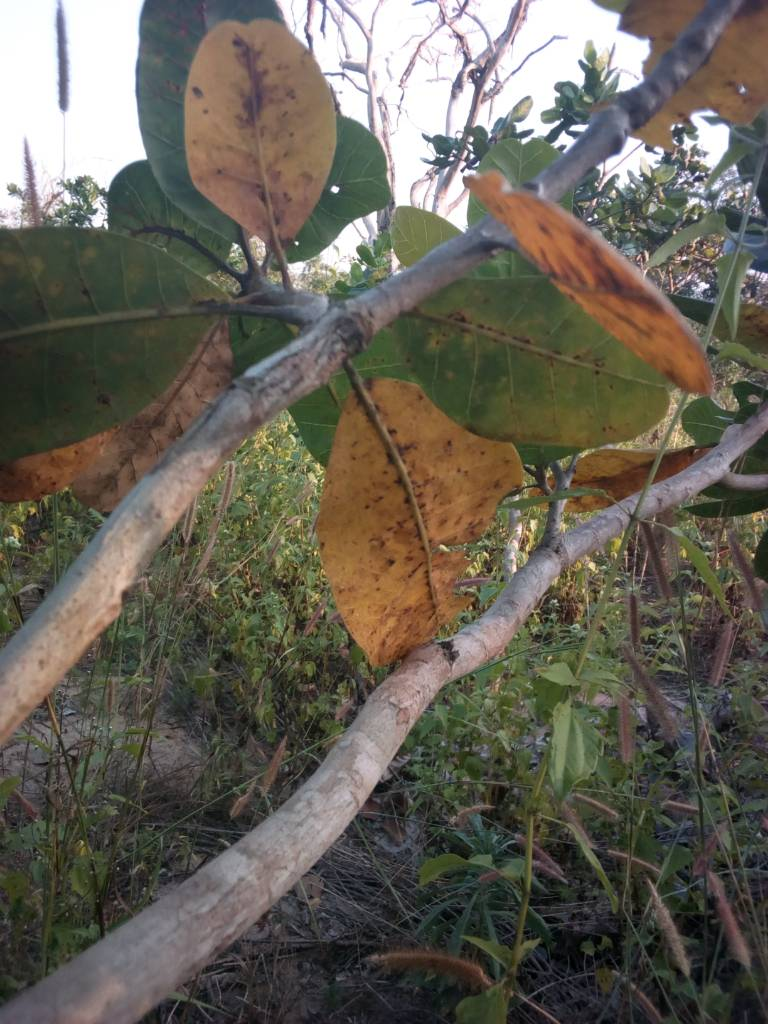Anthracnose: (316, 407, 529, 682), (436, 282, 671, 449), (186, 17, 336, 244)
